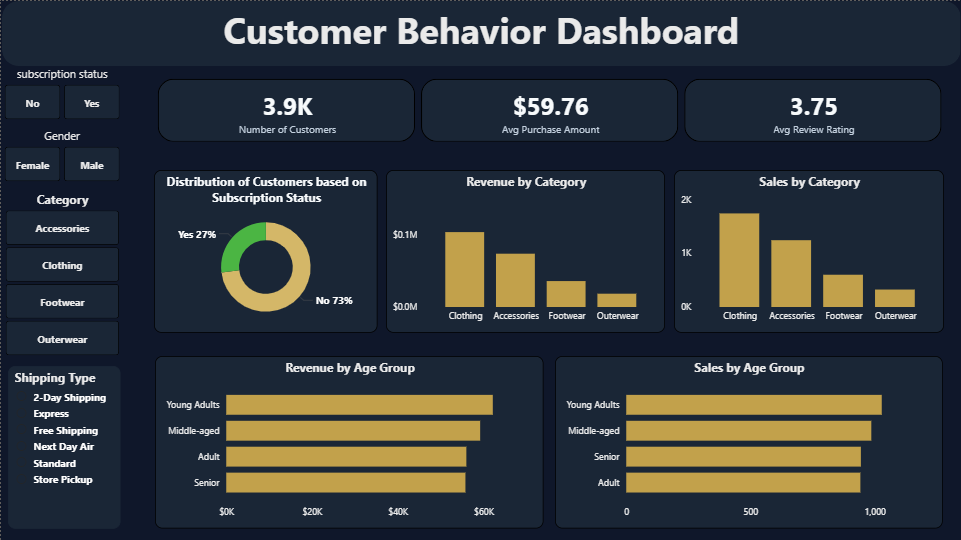

This screenshot's page, from the dashboard's own definition file:
{"tool":"powerbi","page":{"name":"Page 1","canvas":[1280,720],"ordinal":0},"visuals":[{"type":"cardVisual","fields":{"Data":["Measure Table.Number of Customers","Measure Table.Avgerage Purchasee Amount","Measure Table.Average Review Rating"]},"box":[191.7,86.7,1080,118.3],"z":0},{"type":"donutChart","title":"Distribution of Customers based on Subscription Status","fields":{"Category":["public customer.subscription_status"],"Y":["CountNonNull(public customer.customer_id)"]},"box":[204,225,298.3,216.7],"z":1000},{"type":"clusteredColumnChart","title":"Revenue by Category","fields":{"Category":["public customer.category"],"Y":["Sum(public customer.purchase_amount)"]},"box":[513.5,225,372,216.7],"z":2000},{"type":"clusteredColumnChart","title":"Sales by Category","fields":{"Category":["public customer.category"],"Y":["CountNonNull(public customer.customer_id)"]},"box":[896.7,225,360,216.7],"z":3000},{"type":"advancedSlicerVisual","title":"subscription status","fields":{"Values":["public customer.subscription_status"]},"box":[0,86.7,163.3,76.7],"z":4000},{"type":"advancedSlicerVisual","title":"Gender","fields":{"Values":["public customer.gender"]},"box":[0.5,169.9,163.1,76.4],"z":5000},{"type":"advancedSlicerVisual","title":"Category","fields":{"Values":["public customer.category"]},"box":[1.2,253.2,161.7,226.7],"z":6000},{"type":"listSlicer","title":"Shipping Type","fields":{"Values":["public customer.shipping_type"]},"box":[9,487,150,216.7],"z":7000},{"type":"clusteredBarChart","title":"Revenue by Age Group","fields":{"Y":["Sum(public customer.purchase_amount)"],"Category":["public customer.age_group"]},"box":[205,473.3,518.3,230],"z":8000},{"type":"clusteredBarChart","title":"Sales by Age Group","fields":{"Y":["CountNonNull(public customer.customer_id)"],"Category":["public customer.age_group"]},"box":[738.3,473.3,516.7,230],"z":9000},{"type":"shape","box":[1.7,0,1278.3,86.7],"z":10000},{"type":"textbox","box":[1.7,0,1278.3,86.7],"z":11000}]}

Visuals, with their boxes in screenshot pixels (x1, y1, x2, y2), scaled from the page's 1280x720 canvas onto the 961x540 screenshot:
cardVisual - Measure Table.Number of Customers x Measure Table.Avgerage Purchasee Amount: l=144, t=65, r=955, b=154
"Distribution of Customers based on Subscription Status" donutChart: l=153, t=169, r=377, b=331
"Revenue by Category" clusteredColumnChart: l=386, t=169, r=665, b=331
"Sales by Category" clusteredColumnChart: l=673, t=169, r=944, b=331
"subscription status" advancedSlicerVisual: l=0, t=65, r=123, b=123
"Gender" advancedSlicerVisual: l=0, t=127, r=123, b=185
"Category" advancedSlicerVisual: l=1, t=190, r=122, b=360
"Shipping Type" listSlicer: l=7, t=365, r=119, b=528
"Revenue by Age Group" clusteredBarChart: l=154, t=355, r=543, b=527
"Sales by Age Group" clusteredBarChart: l=554, t=355, r=942, b=527
shape: l=1, t=0, r=960, b=65
textbox: l=1, t=0, r=960, b=65
